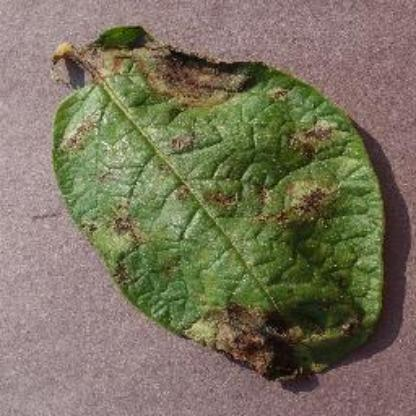Late-Blight: (38, 16, 398, 396)
